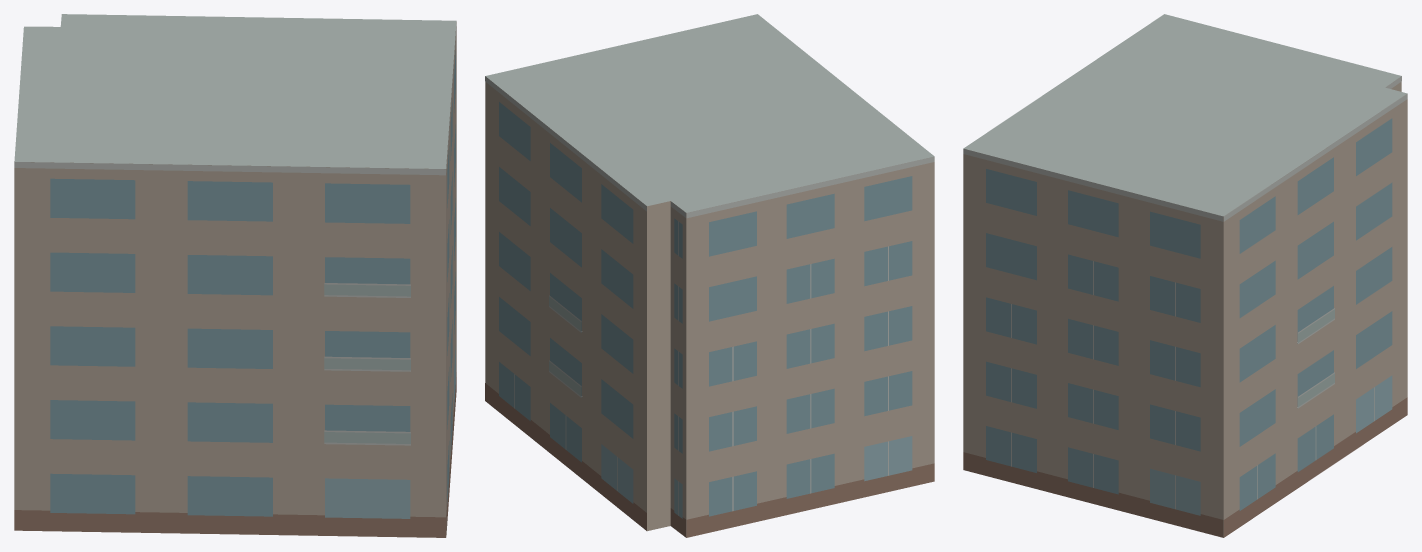
File: survey-upis-32747265.glb
The picture shows the model from 3 angles, left to right: view 1: azimuth 30°, elevation 25°; view 2: azimuth 150°, elevation 25°; view 3: azimuth 270°, elevation 25°; orthographic projection. The views are drawn at different scales.
Visible parts, largest first — view 1: survey-upis-32747265.tmp; view 2: survey-upis-32747265.tmp; view 3: survey-upis-32747265.tmp.
Boxes of the visible parts, box(x1,y1,x2,y2) form: survey-upis-32747265.tmp: box(14, 14, 456, 537); survey-upis-32747265.tmp: box(485, 14, 934, 537); survey-upis-32747265.tmp: box(963, 14, 1407, 537).
Bounding box in the file's own units: 19.67 × 14.55 × 18.24.
